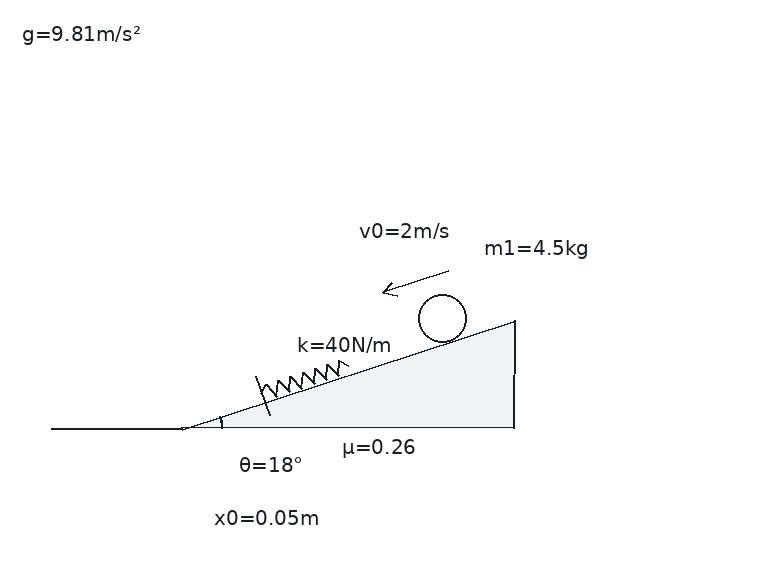ball: (416, 292, 468, 344)
ramp: (180, 318, 515, 430)
spring: (260, 358, 350, 397)
